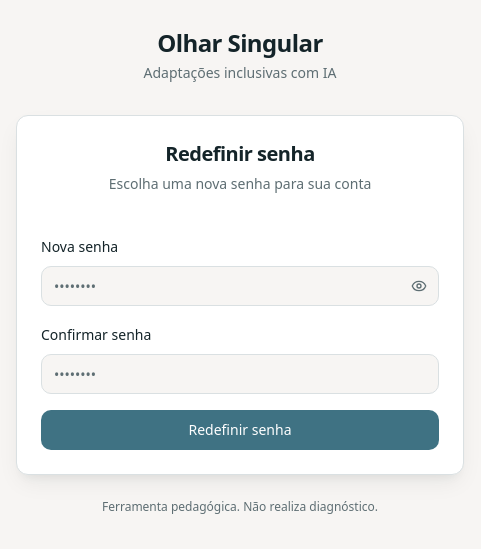
ResetPasswordPage › rejects when the confirmation does not match
Type "123456" into the password field labelled "Nova senha". click: (240, 286)
box: [41,266,439,306]
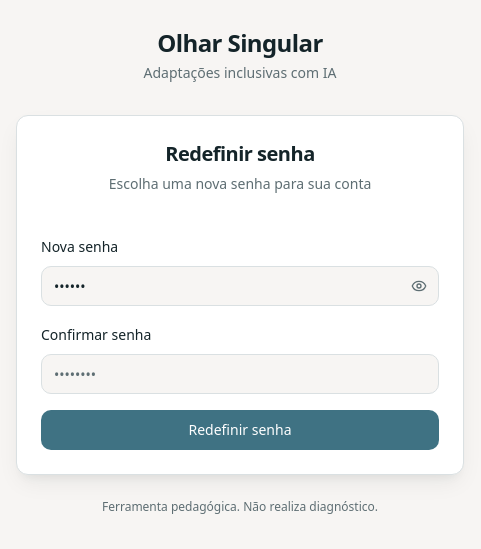
Type "654321" into the password field labelled "Confirmar senha". click: (240, 374)
box: [41,354,439,394]
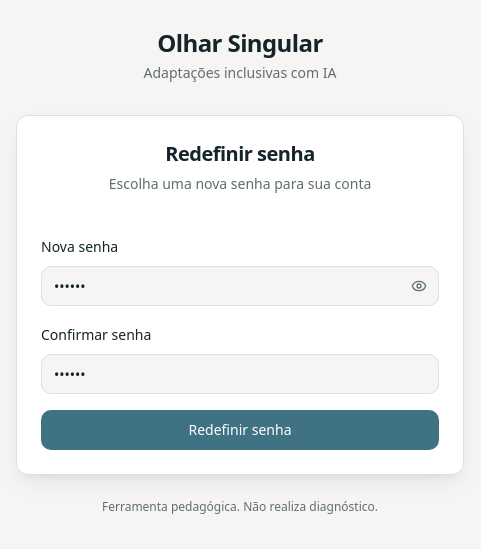
Click the button "Redefinir senha". click: (240, 430)
box: [41,410,439,450]
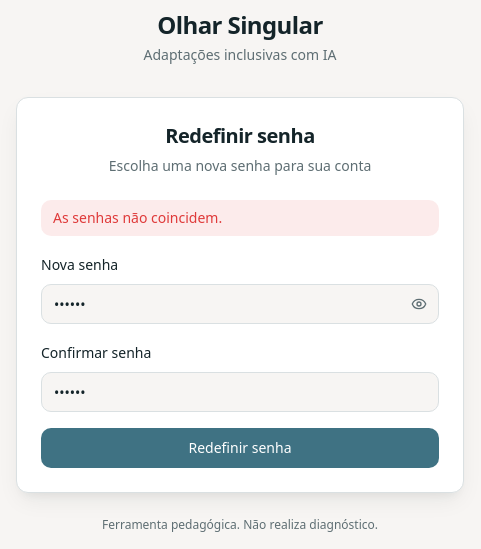
Expected: the message shows "não coincidem", [53,208,222,227]
